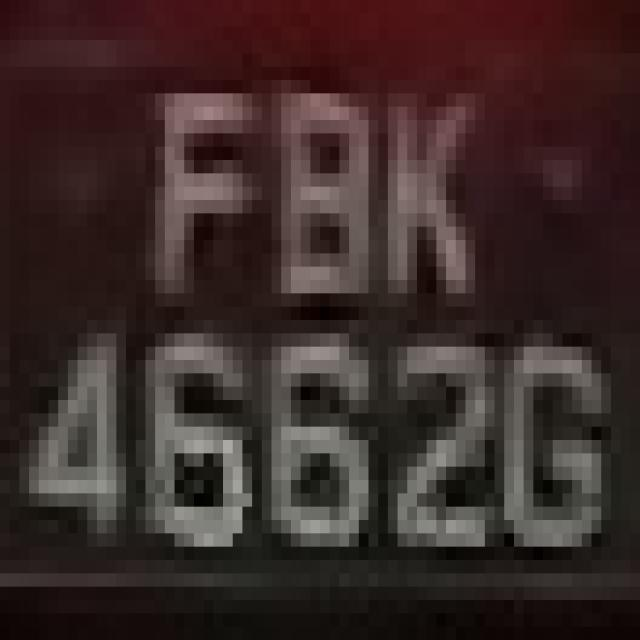2: (378, 307, 495, 600)
4: (20, 307, 146, 560)
6: (252, 293, 378, 600), (116, 320, 262, 547)
B: (242, 40, 378, 307)
F: (126, 40, 242, 320)
G: (484, 320, 620, 587)
K: (378, 67, 495, 333)
